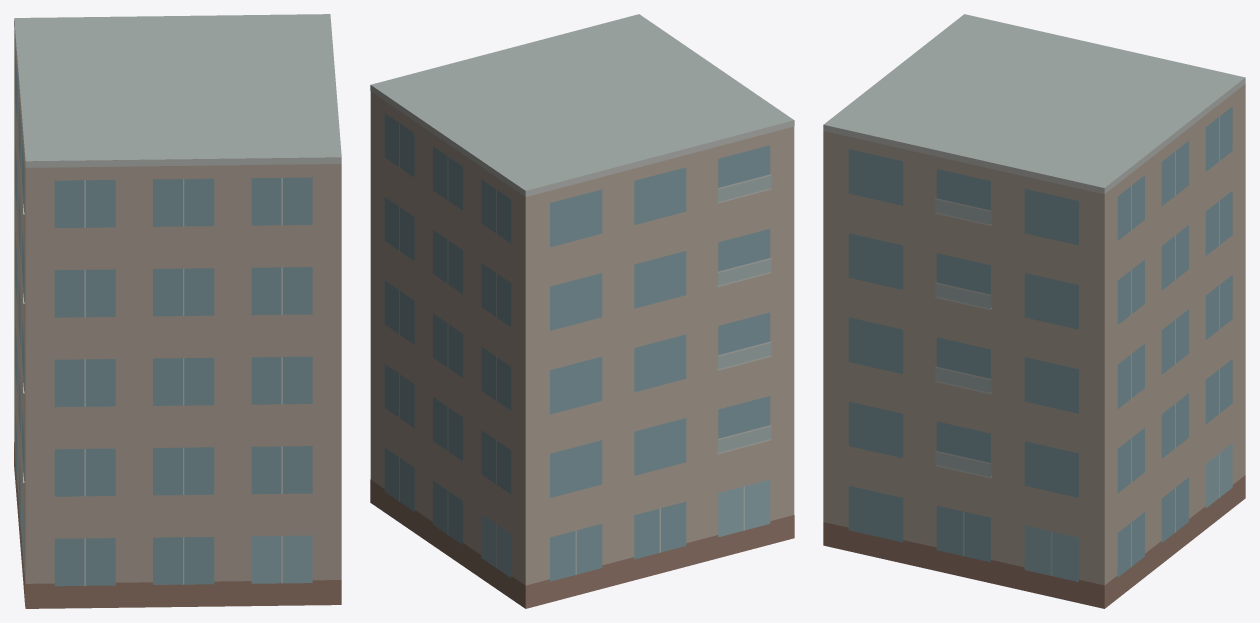
File: survey-upis-32722722.glb
3 views of the same model, side by side, from view 1: azimuth 30°, elevation 25°; view 2: azimuth 150°, elevation 25°; view 3: azimuth 270°, elevation 25° (orthographic). The views are drawn at different scales.
Visible parts, largest first — view 1: survey-upis-32722722.tmp; view 2: survey-upis-32722722.tmp; view 3: survey-upis-32722722.tmp.
Part boxes in pixels (box(x1,y1,x2,y2)): survey-upis-32722722.tmp: box(14, 14, 341, 608); survey-upis-32722722.tmp: box(370, 14, 794, 608); survey-upis-32722722.tmp: box(823, 14, 1245, 608).
Bounding box in the file's own units: 14.65 × 16.5 × 15.01.
